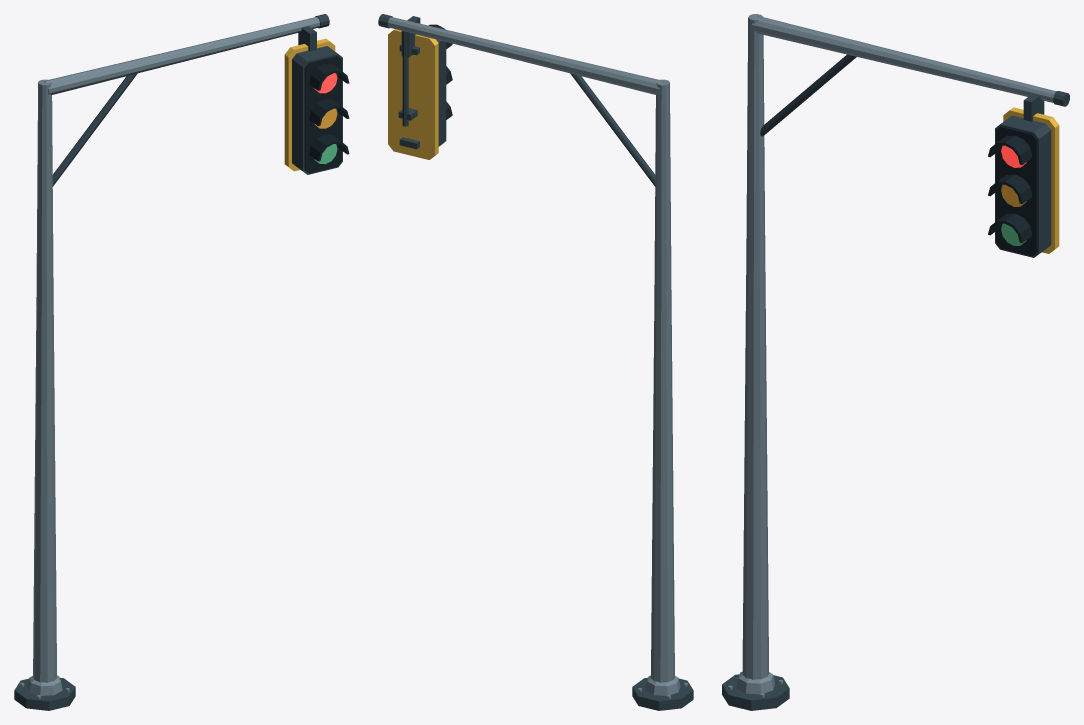
Rendered from traffic_light_overhead.glb.
The picture shows the model from 3 angles, left to right: view 1: azimuth 30°, elevation 25°; view 2: azimuth 150°, elevation 25°; view 3: azimuth 330°, elevation 25°; orthographic projection. The views are drawn at different scales.
Parts seen in each view (by area): view 1: traffic_light_overhead; view 2: traffic_light_overhead; view 3: traffic_light_overhead.
Boxes of the visible parts, x1,y1,x2,y2 form: traffic_light_overhead: (14,14,349,710); traffic_light_overhead: (378,14,693,710); traffic_light_overhead: (722,14,1069,710).
Bounding box in the file's own units: 3.03 × 5.84 × 0.7858.
